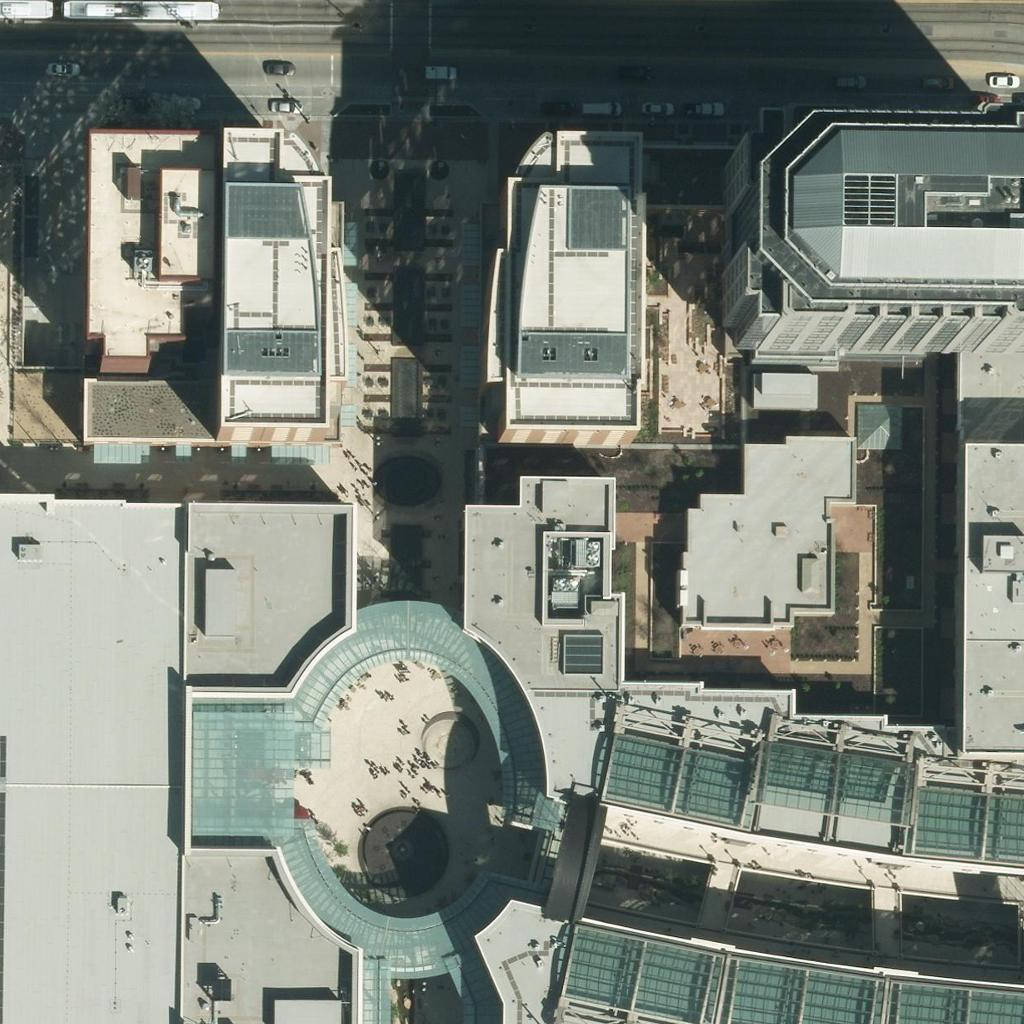car: (44, 50, 78, 84), (260, 51, 294, 85), (614, 54, 648, 88), (423, 55, 457, 89), (831, 61, 865, 95), (983, 61, 1017, 95), (918, 63, 952, 97), (967, 81, 1001, 115), (167, 85, 201, 119), (265, 88, 299, 122), (638, 90, 672, 124), (536, 91, 570, 125), (688, 92, 722, 126), (588, 93, 622, 127)
